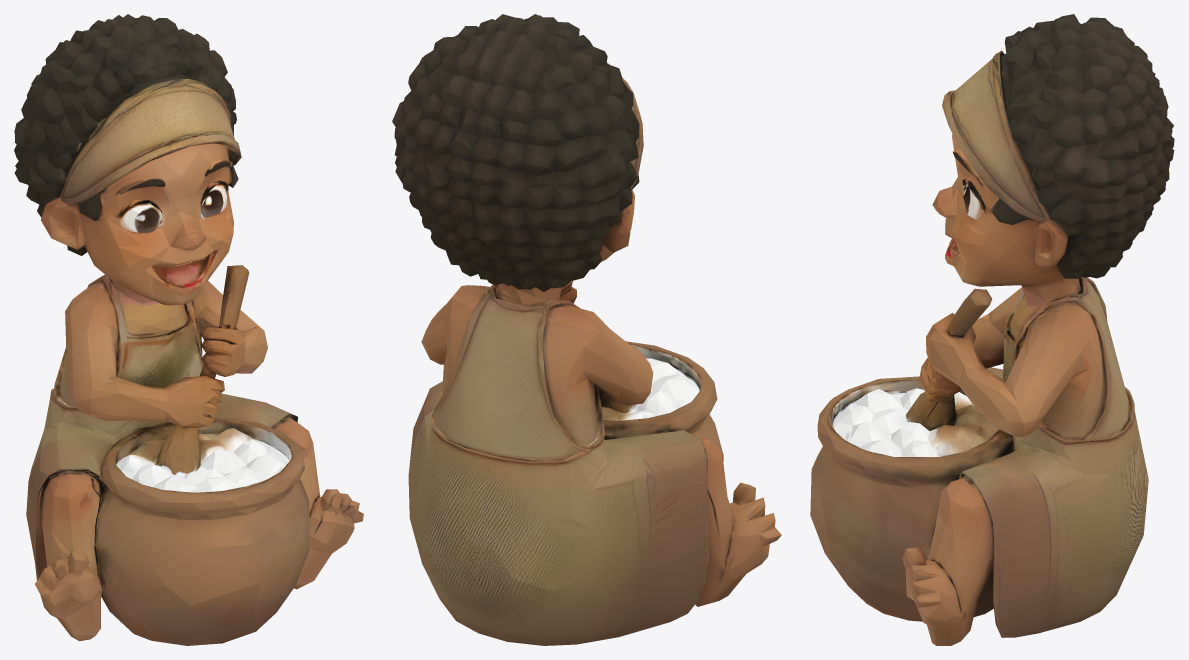
Rendered from Papeda.glb.
3 views of the same model, side by side, from view 1: azimuth 30°, elevation 25°; view 2: azimuth 150°, elevation 25°; view 3: azimuth 270°, elevation 25° (orthographic). The views are drawn at different scales.
Parts seen in each view (by area): view 1: model; view 2: model; view 3: model.
Boxes of the visible parts, x1,y1,x2,y2 form: model: (14,14,363,645); model: (392,14,781,645); model: (810,14,1174,645).
Bounding box in the file's own units: 1.09 × 1.76 × 1.02.
Materials: 1 (1 with a texture image).
